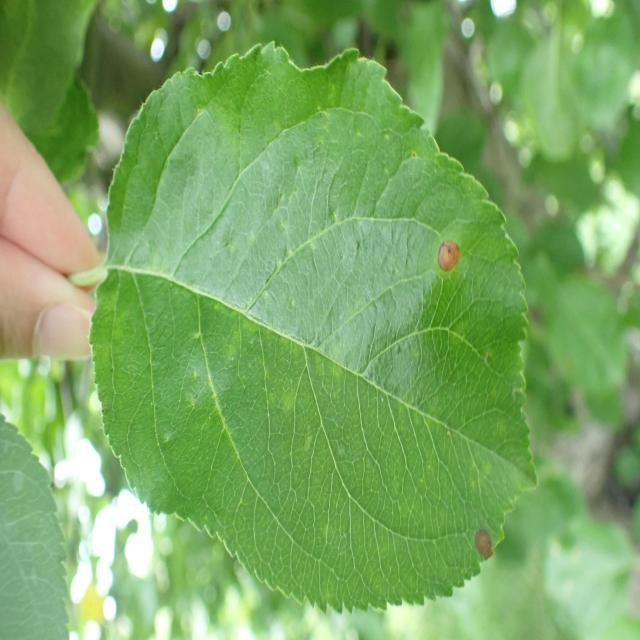frog-eye-leaf-spot: (88, 38, 539, 614)
